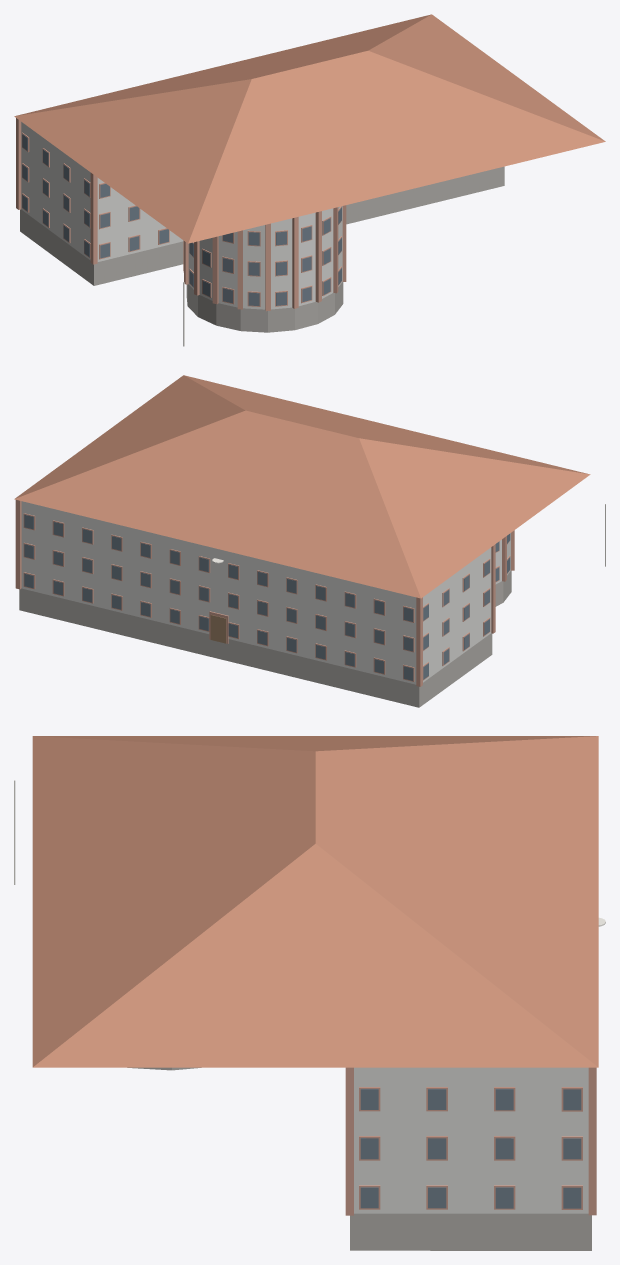
File: townhall-rathaus.glb
3 renders of one model, top to bottom at view 1: azimuth 30°, elevation 25°; view 2: azimuth 150°, elevation 25°; view 3: azimuth 270°, elevation 25°, orthographic. The views are drawn at different scales.
Visible parts, largest first — view 1: building; view 2: building; view 3: building.
Boxes of the visible parts, x1,y1,x2,y2 form: building: (14, 14, 605, 346); building: (14, 375, 605, 707); building: (14, 736, 605, 1250).
Size of the model in its own units: 48.85 by 19.5 by 36.01.
